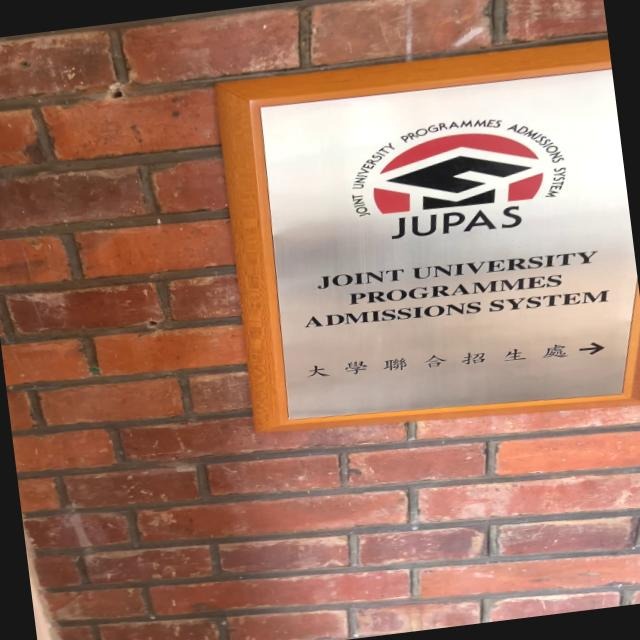jupasOffice: (191, 18, 640, 460)
